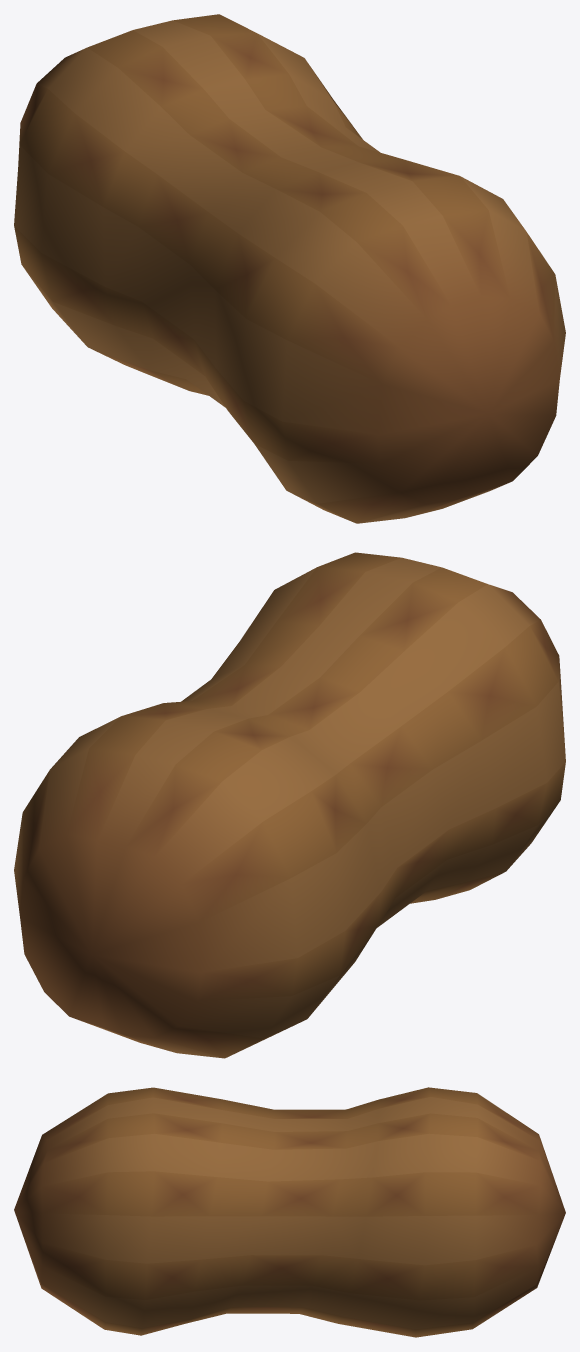
File: consumables-vegetables-peanutshell_v1.glb
3 renders of one model, top to bottom at view 1: azimuth 30°, elevation 25°; view 2: azimuth 150°, elevation 25°; view 3: azimuth 270°, elevation 25°, orthographic. The views are drawn at different scales.
Parts seen in each view (by area): view 1: PeanutShell_v1; view 2: PeanutShell_v1; view 3: PeanutShell_v1.
Part boxes in pixels (x1,y1,x2,y2): PeanutShell_v1: (14, 14, 565, 523); PeanutShell_v1: (14, 552, 565, 1058); PeanutShell_v1: (14, 1087, 565, 1337).
Size of the model in its own units: 0.0231 by 0.0227 by 0.0528.
